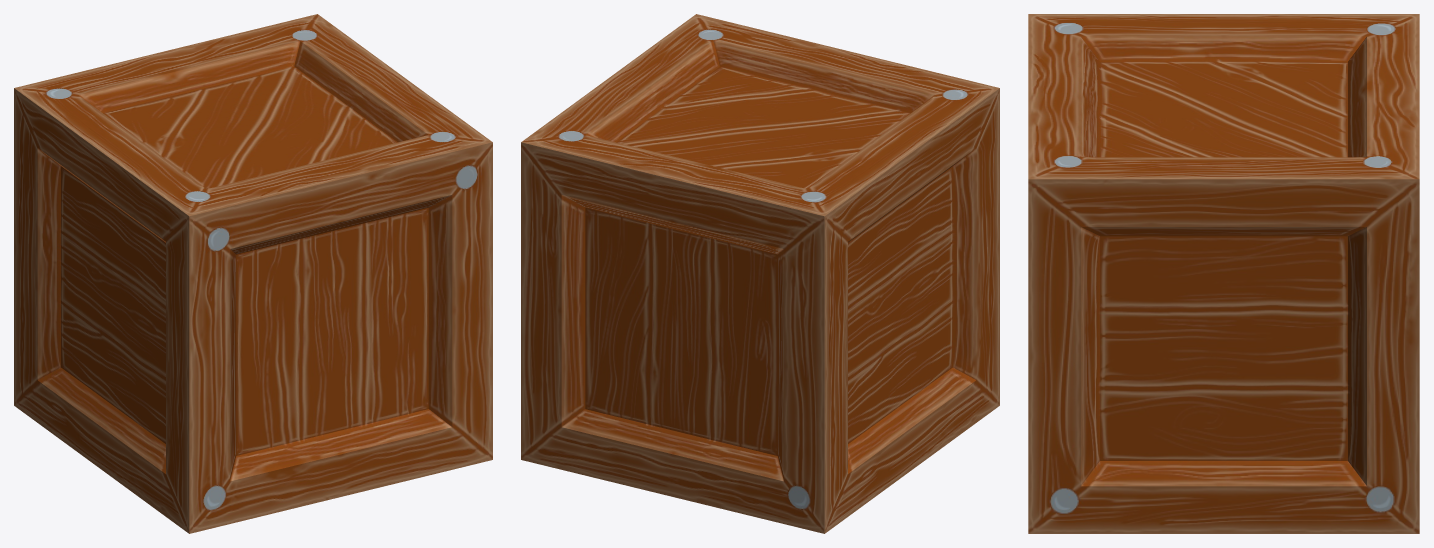
Rendered from Caja.fbx.
3 renders of one model, left to right at view 1: azimuth 30°, elevation 25°; view 2: azimuth 150°, elevation 25°; view 3: azimuth 270°, elevation 25°, orthographic. The views are drawn at different scales.
Visible parts, largest first — view 1: crate_low_crate_mat_0; view 2: crate_low_crate_mat_0; view 3: crate_low_crate_mat_0.
Boxes of the visible parts, x1,y1,x2,y2 form: crate_low_crate_mat_0: (14,14,492,533); crate_low_crate_mat_0: (521,14,999,533); crate_low_crate_mat_0: (1028,14,1419,533).
Bounding box in the file's own units: 119 × 119 × 119.
